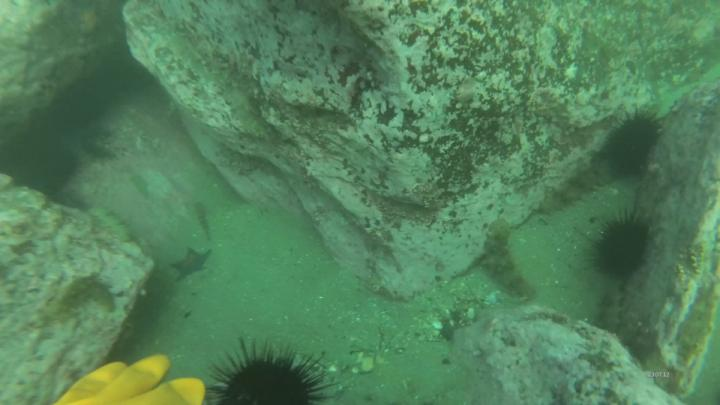echinus: (482, 217, 542, 307), (47, 273, 118, 328), (91, 205, 132, 243)
holothurian: (168, 244, 214, 286)
starfish: (214, 353, 322, 405), (604, 108, 662, 182), (595, 213, 653, 282)
